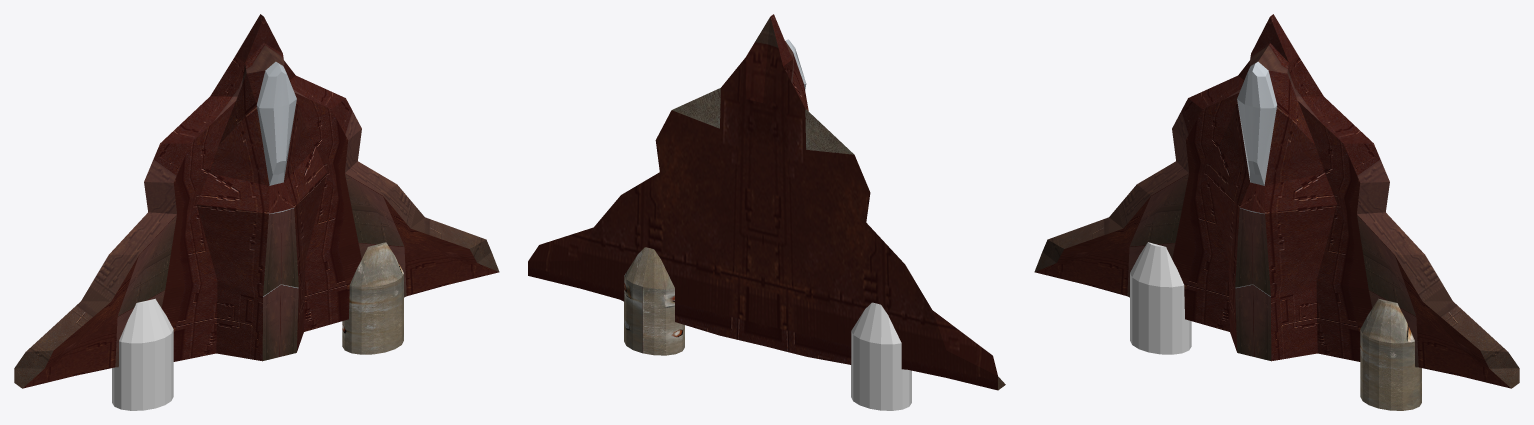
The model's file is boss_1-2.fbx.
The picture shows the model from 3 angles, left to right: view 1: azimuth 30°, elevation 25°; view 2: azimuth 150°, elevation 25°; view 3: azimuth 330°, elevation 25°; orthographic projection.
Parts seen in each view (by area): view 1: Boss 1-2, Booster.000, Booster.001; view 2: Boss 1-2, Booster.000, Booster.001; view 3: Boss 1-2, Booster.001, Booster.000.
Boxes of the visible parts, box(x1,y1,x2,y2) form: Boss 1-2: box(14, 14, 499, 388); Booster.000: box(112, 298, 173, 410); Booster.001: box(342, 242, 403, 354); Boss 1-2: box(528, 14, 1005, 390); Booster.000: box(851, 302, 911, 410); Booster.001: box(624, 247, 684, 355); Boss 1-2: box(1034, 14, 1519, 388); Booster.001: box(1360, 298, 1421, 410); Booster.000: box(1130, 242, 1191, 354).
Bounding box in the file's own units: 2511 × 1807 × 330.
Materials: 2 (2 with a texture image).
